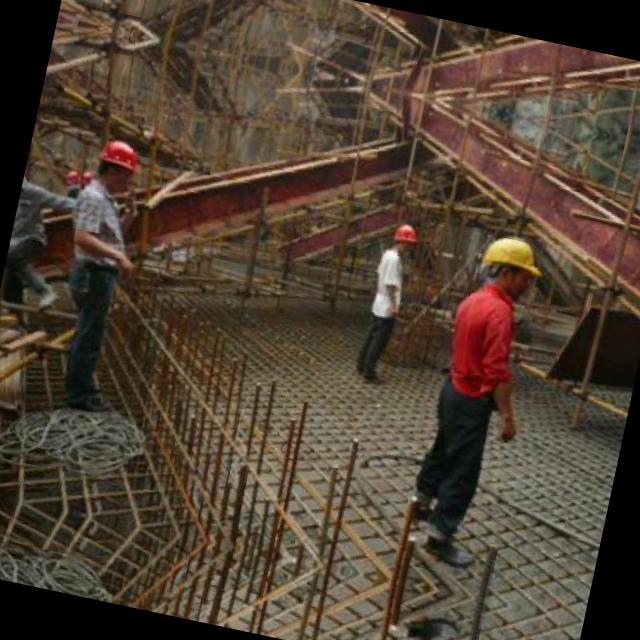helmet: (471, 225, 546, 300), (90, 132, 144, 192), (386, 215, 422, 256)
